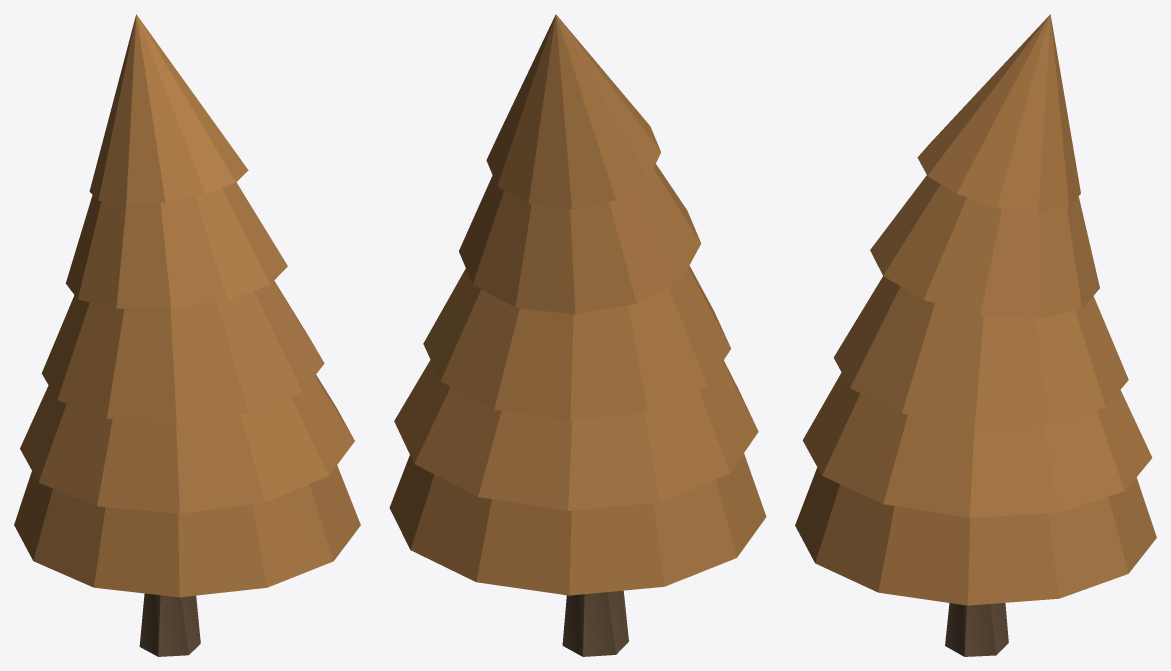
The model's file is tree_conifer_orange_3.glb.
The picture shows the model from 3 angles, left to right: view 1: azimuth 30°, elevation 25°; view 2: azimuth 150°, elevation 25°; view 3: azimuth 270°, elevation 25°; orthographic projection. The views are drawn at different scales.
Visible parts, largest first — view 1: Tree Onifer 3.083; view 2: Tree Onifer 3.083; view 3: Tree Onifer 3.083.
Part boxes in pixels (left/top/right/bottom): Tree Onifer 3.083: left=14, top=14, right=360, bottom=656; Tree Onifer 3.083: left=389, top=14, right=766, bottom=656; Tree Onifer 3.083: left=795, top=14, right=1156, bottom=656.
Bounding box in the file's own units: 0.1756 × 0.3379 × 0.1756.
